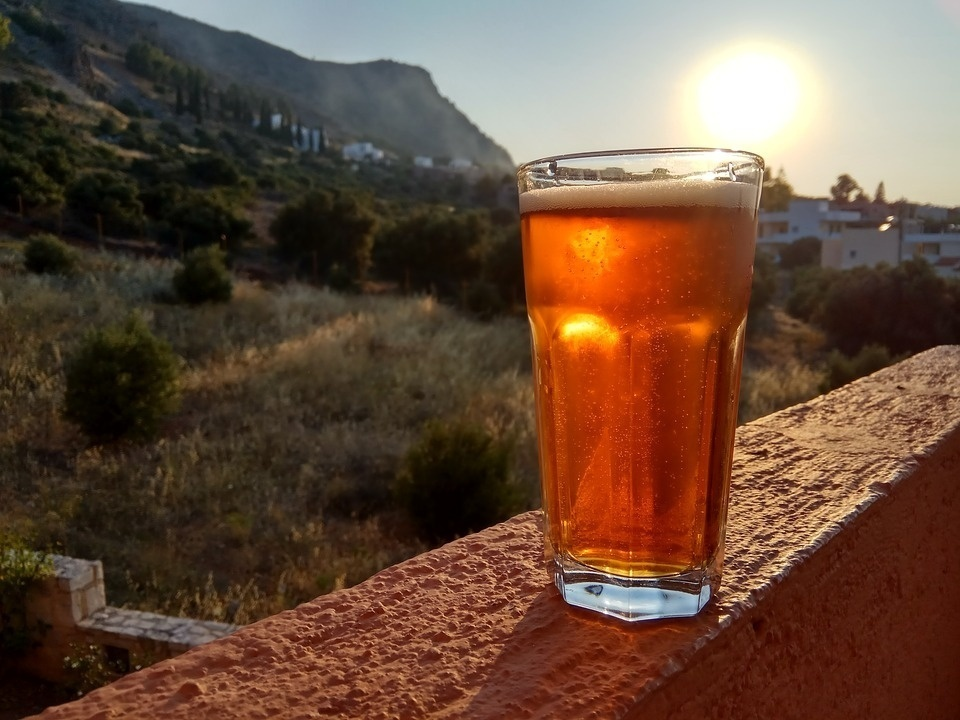whiskey: (503, 150, 768, 611)
